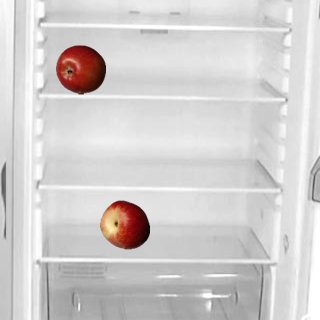Apple Braeburn: (55, 44, 105, 94)
Nectarine: (99, 199, 149, 249)
